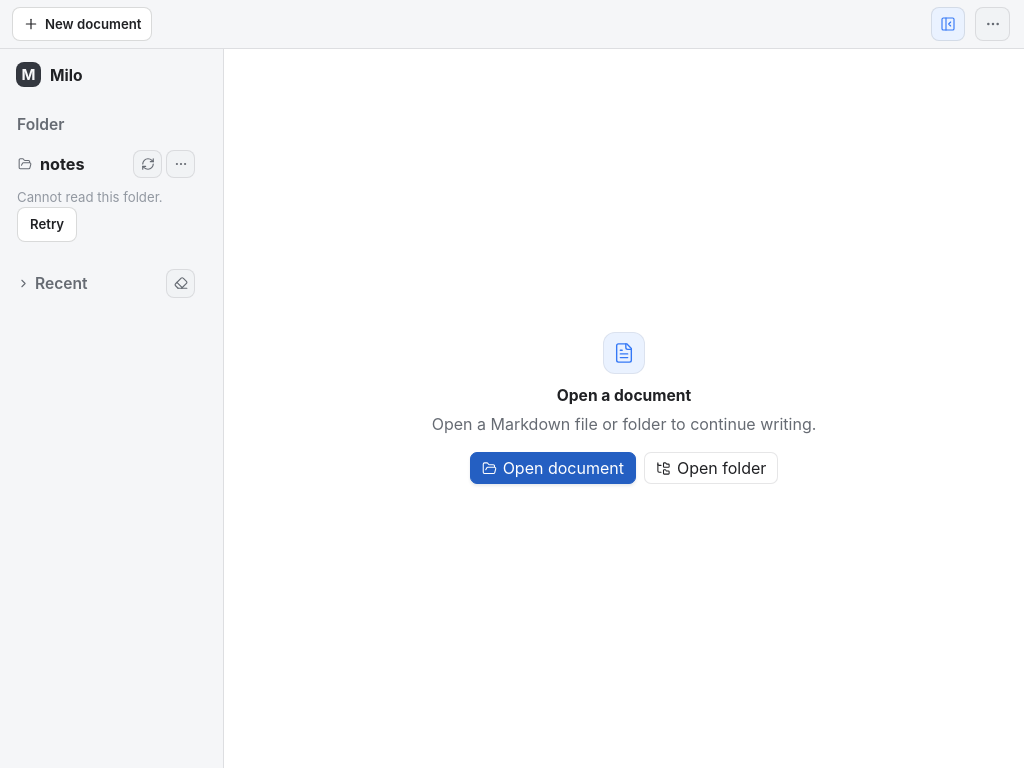
Test: sidebar folder and recent integration › retries a root failure with sidebar visible: true without removing its folder
Expected: the text "Cannot read this folder." is shown, 17,189 -> 163,205
Click the button "Retry" at (47, 224), box 17,207 -> 77,242
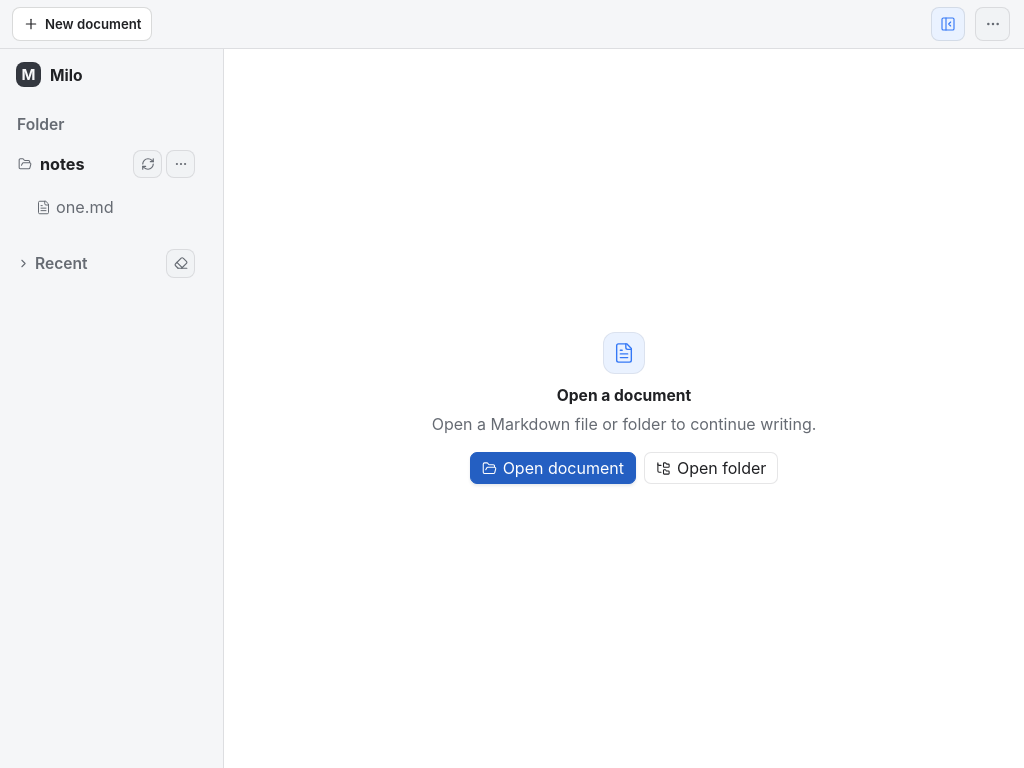
Result: the button "one.md" is shown at 10,190 -> 198,226
